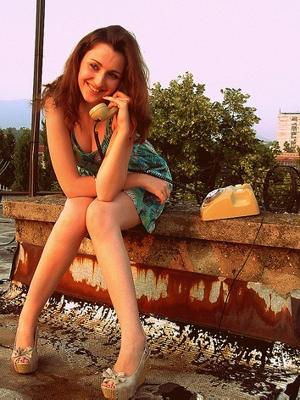person: (12, 25, 175, 400)
